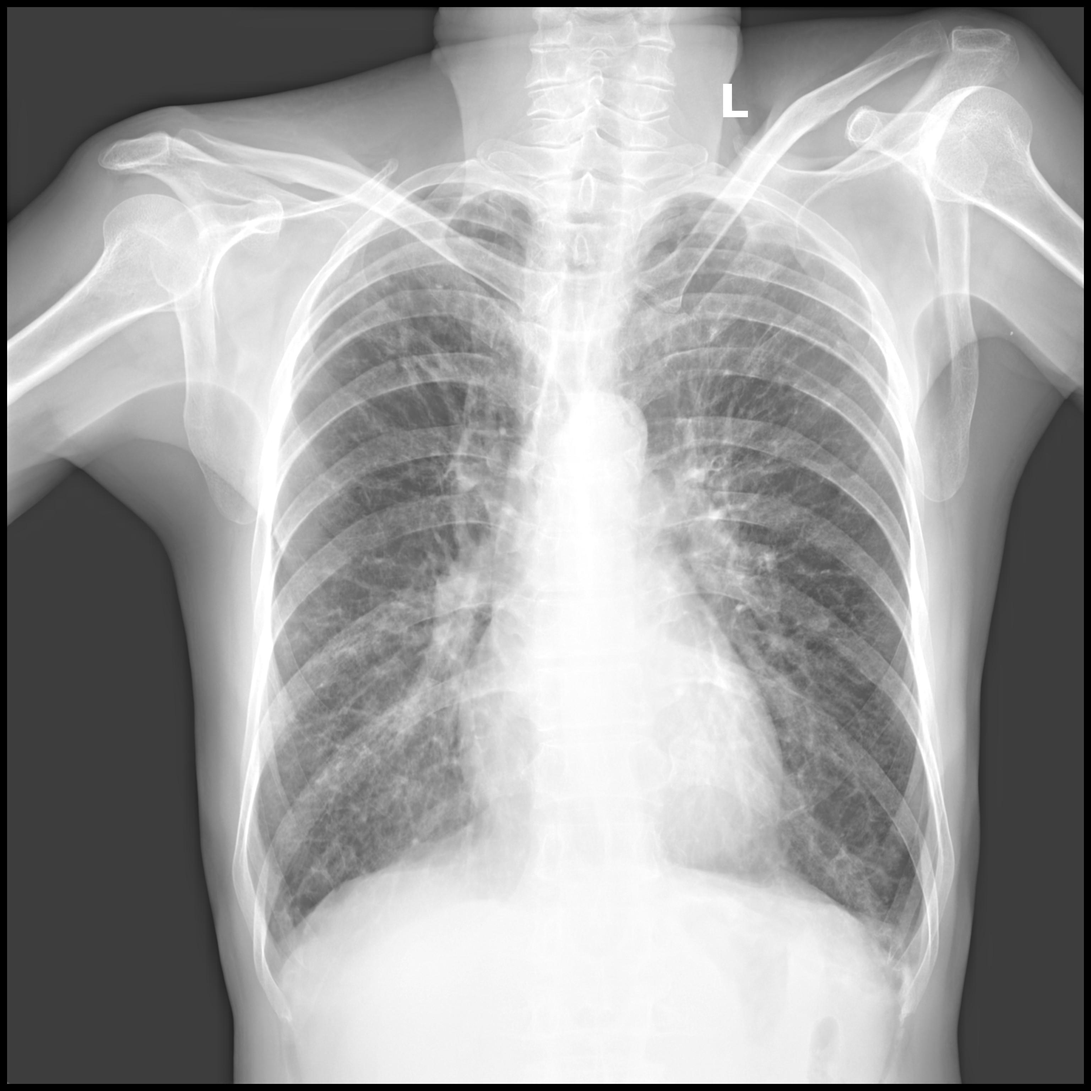Pulmonary fibrosis: (698, 263, 854, 468), (330, 241, 482, 397)
